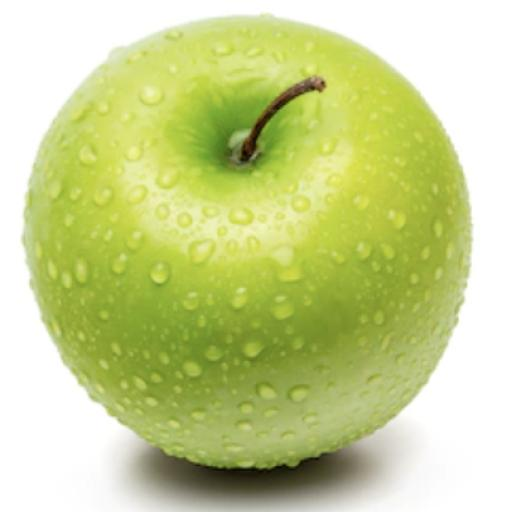apple: (24, 17, 470, 468)
